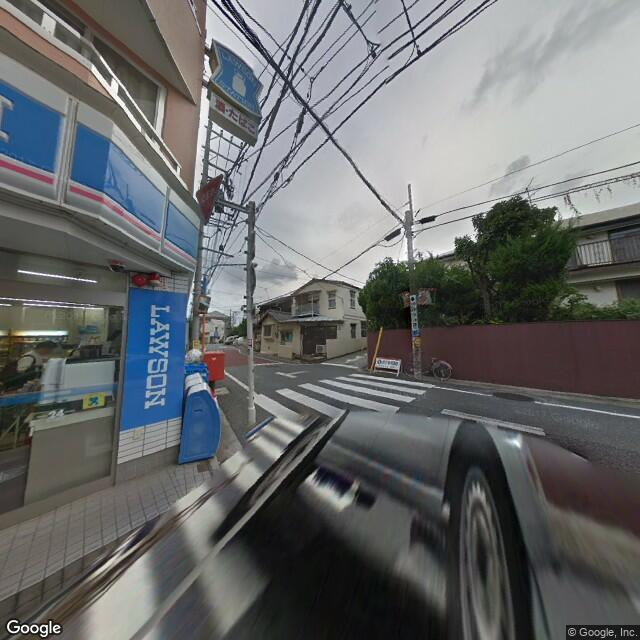lawson: (1, 54, 206, 261), (128, 290, 172, 421), (210, 42, 263, 116)
